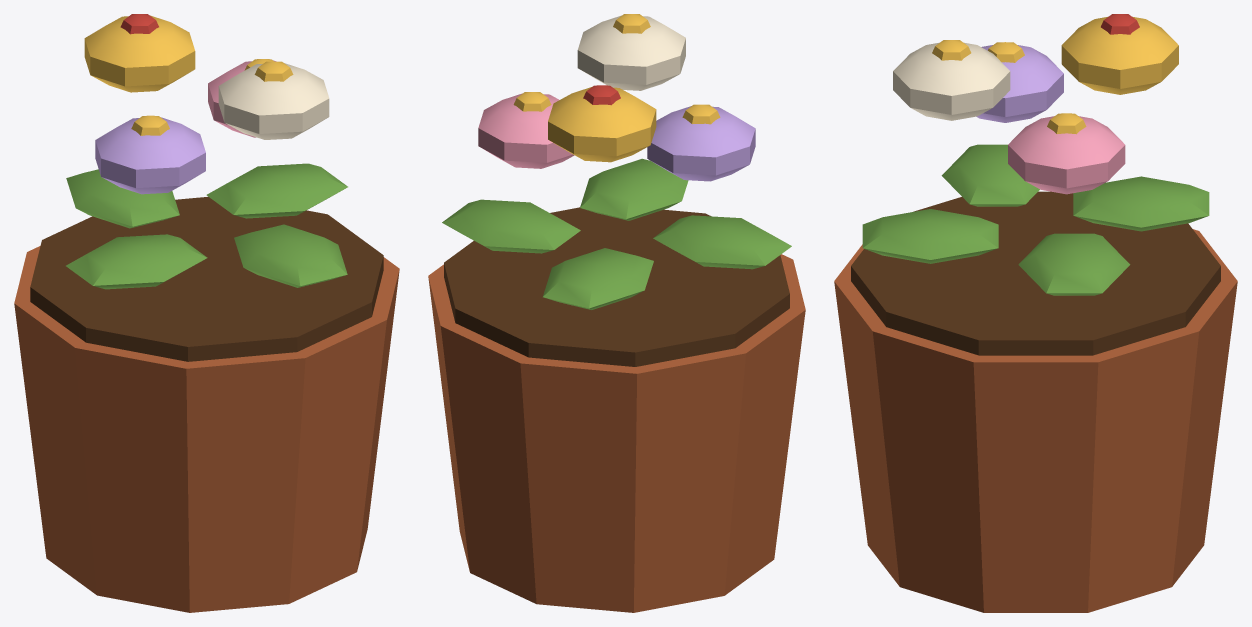
Rendered from PR_Season_Bahar_Kucuk.fbx.
3 views of the same model, side by side, from view 1: azimuth 30°, elevation 25°; view 2: azimuth 150°, elevation 25°; view 3: azimuth 270°, elevation 25° (orthographic). The views are drawn at different scales.
Visible parts, largest first — view 1: PR_Season_Bahar_Kucuk; view 2: PR_Season_Bahar_Kucuk; view 3: PR_Season_Bahar_Kucuk.
Part boxes in pixels (bbox=[...]): PR_Season_Bahar_Kucuk: bbox=[14, 14, 399, 612]; PR_Season_Bahar_Kucuk: bbox=[428, 14, 805, 612]; PR_Season_Bahar_Kucuk: bbox=[834, 14, 1237, 612].
Bounding box in the file's own units: 0.3424 × 0.5102 × 0.36.
